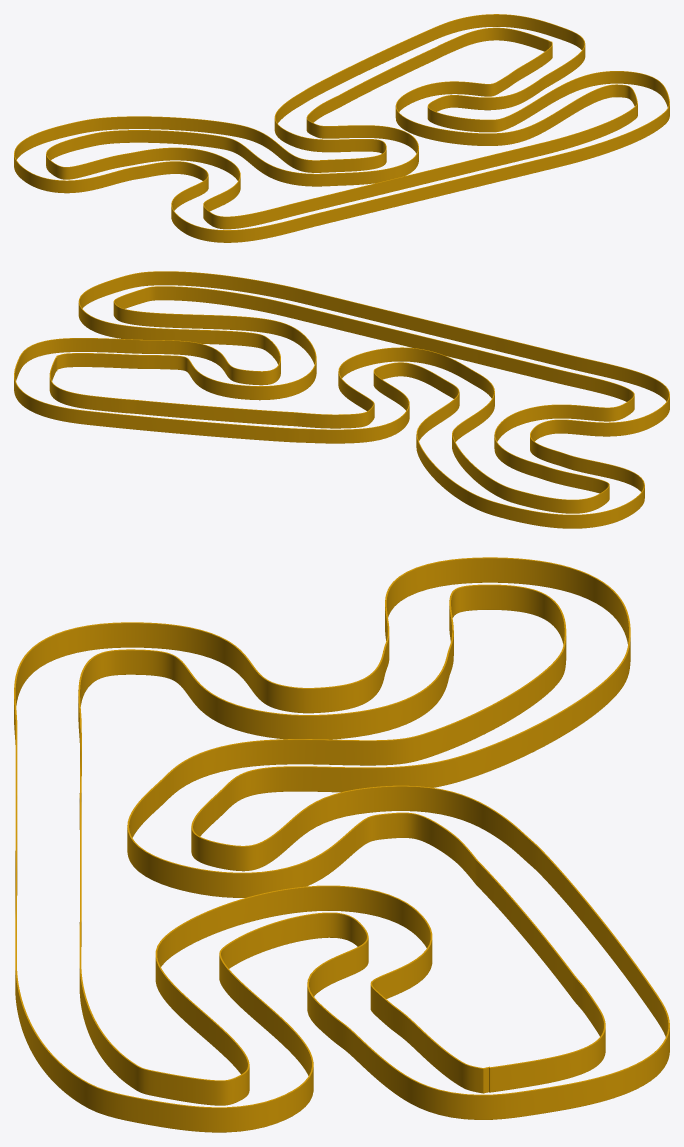
File: WALLS_no_ramps.fbx
3 renders of one model, top to bottom at view 1: azimuth 30°, elevation 25°; view 2: azimuth 150°, elevation 25°; view 3: azimuth 270°, elevation 25°, orthographic. The views are drawn at different scales.
Parts seen in each view (by area): view 1: THICK_WALLS; view 2: THICK_WALLS; view 3: THICK_WALLS.
Boxes of the visible parts, bbox=[...] form: THICK_WALLS: bbox=[14, 14, 669, 242]; THICK_WALLS: bbox=[14, 271, 669, 528]; THICK_WALLS: bbox=[14, 557, 669, 1132].
Bounding box in the file's own units: 3856 × 7657 × 160.
